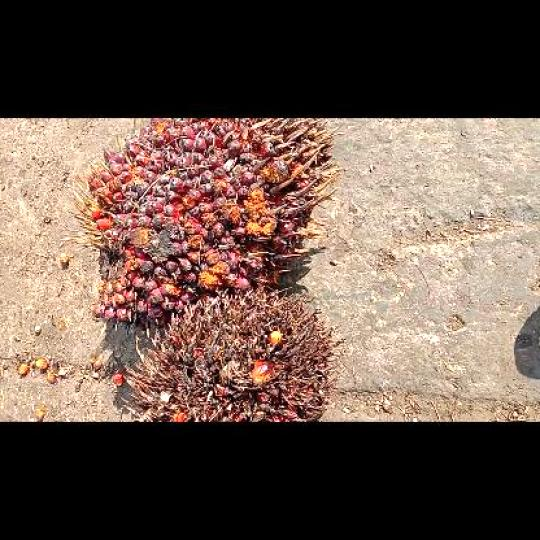masak: (73, 118, 335, 334)
terlalu masak: (123, 286, 342, 420)
